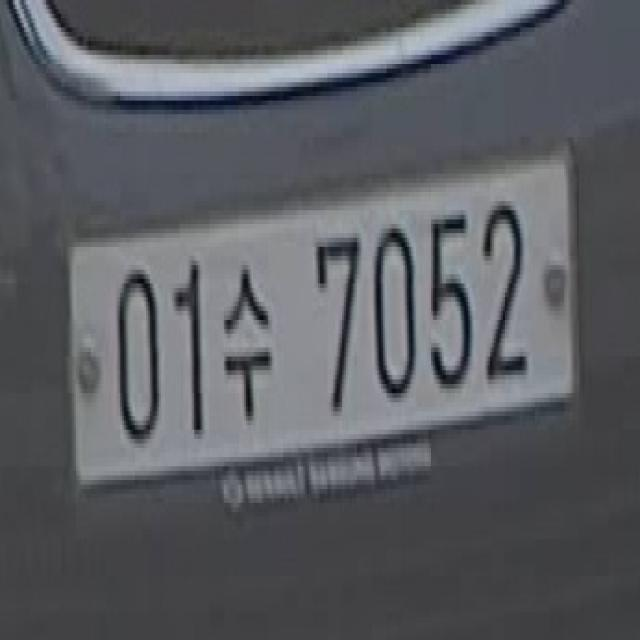0: (112, 257, 168, 463), (368, 204, 418, 407)
1: (170, 219, 214, 456)
2: (482, 184, 532, 401)
5: (428, 197, 475, 400)
7: (302, 227, 363, 425)
license_plate: (64, 122, 604, 530)
su: (222, 242, 276, 449)
